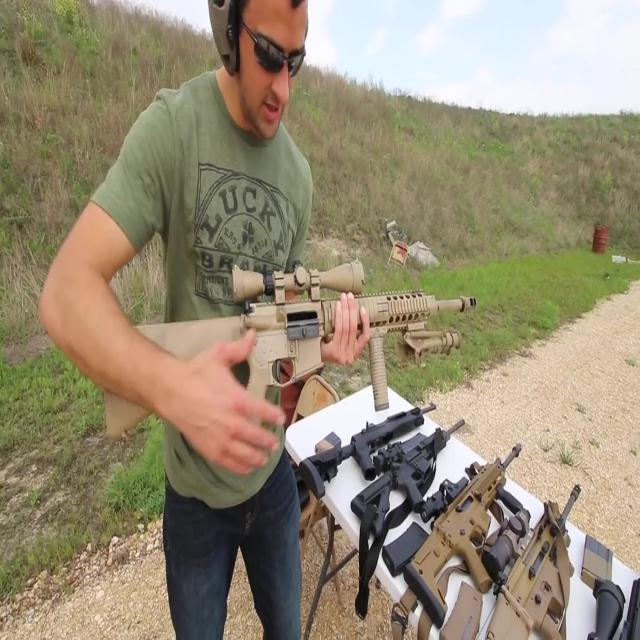Weapon: (253, 325, 640, 640), (70, 226, 492, 497)
